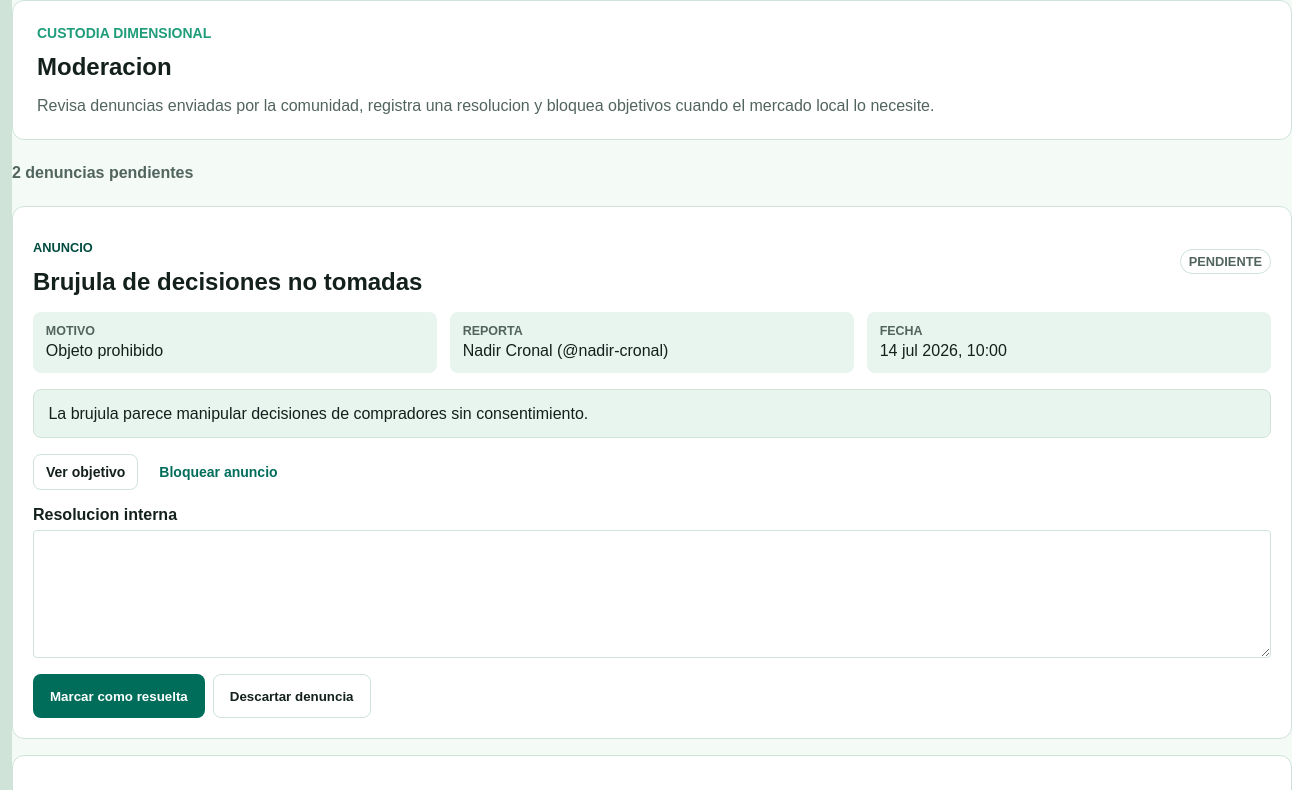
Test: ModerationPage › lists reports and resolves one
Check: the heading "Brujula de decisiones no tomadas" is shown, box [33,268,422,296]
Check: the text "2 denuncias pendientes" is shown, box [12,164,193,181]
Type "Objeto retirado de la cola dimensional." into the text box labelled "Resolucion interna" at (652, 594), box [33,530,1271,658]
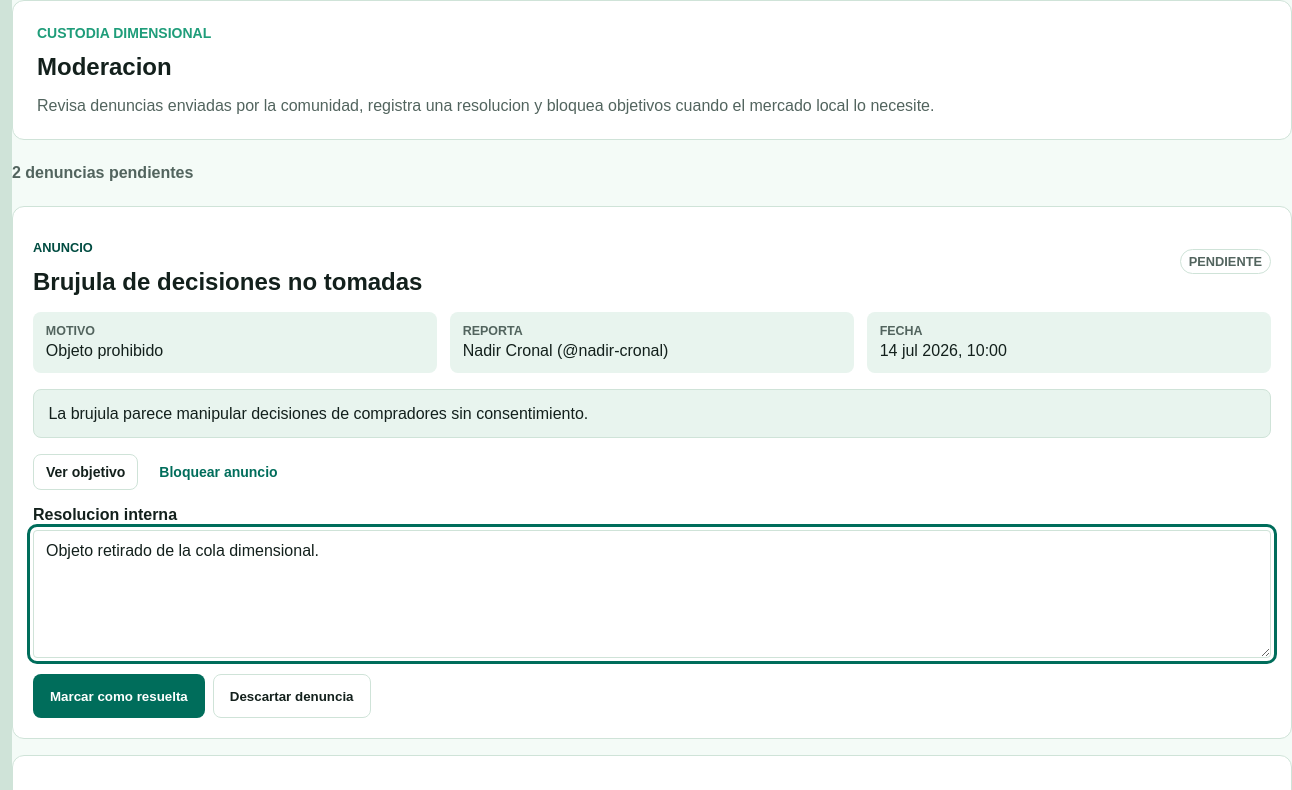
Click the button "Marcar como resuelta" at (119, 696), box [33,674,205,718]
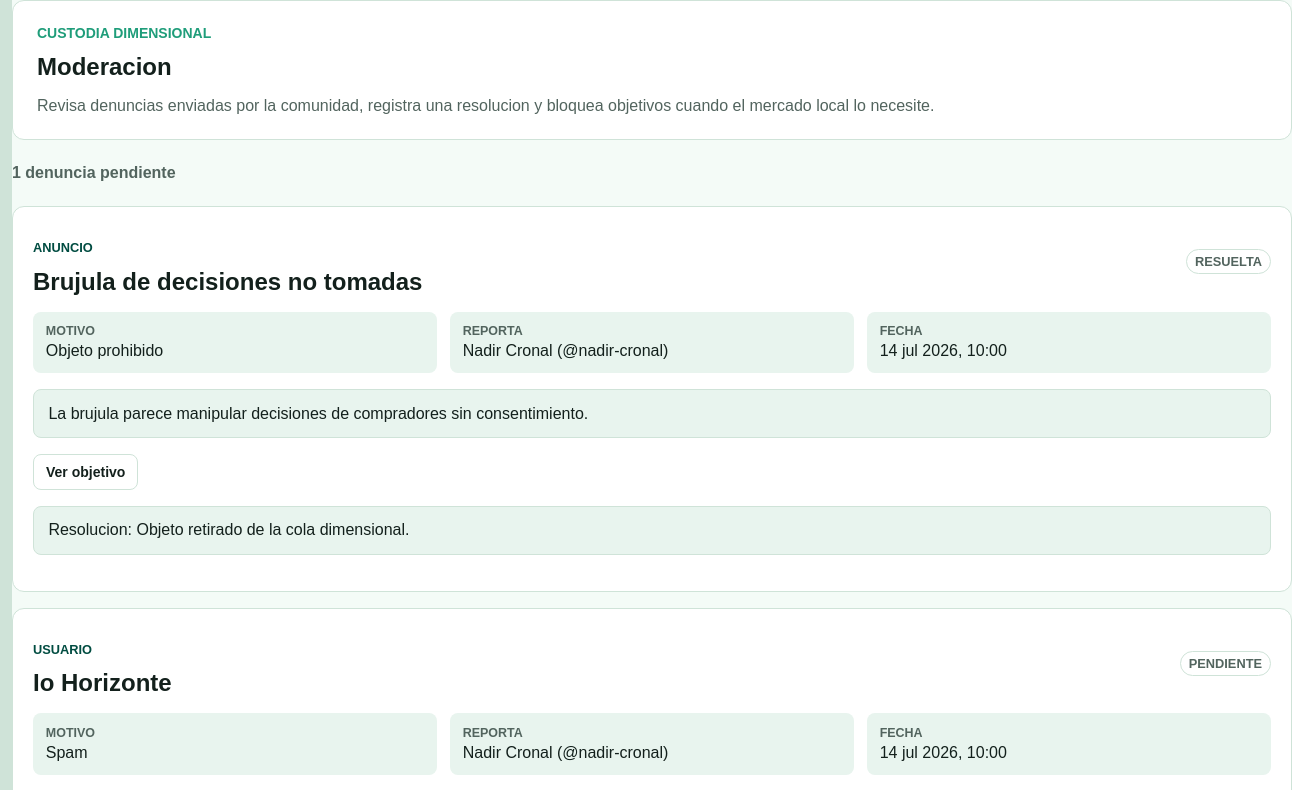
Check: the text "1 denuncia pendiente" is shown, box [12,164,176,181]
